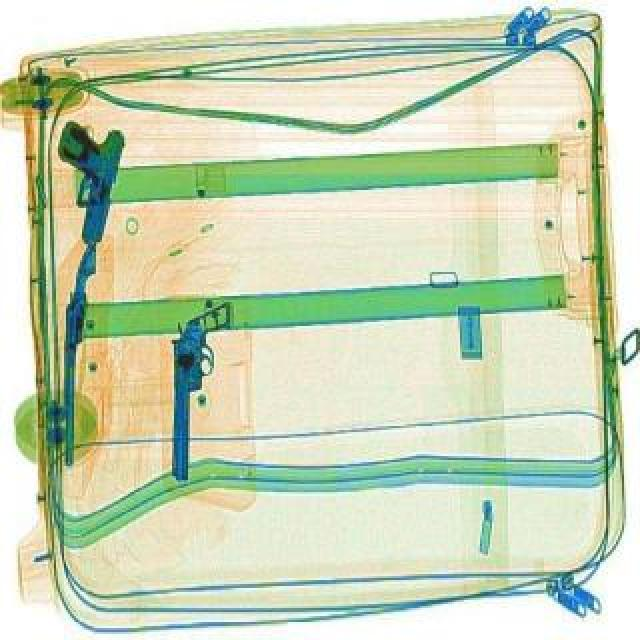gun: (34, 122, 130, 252), (164, 304, 232, 486), (46, 248, 98, 472)
